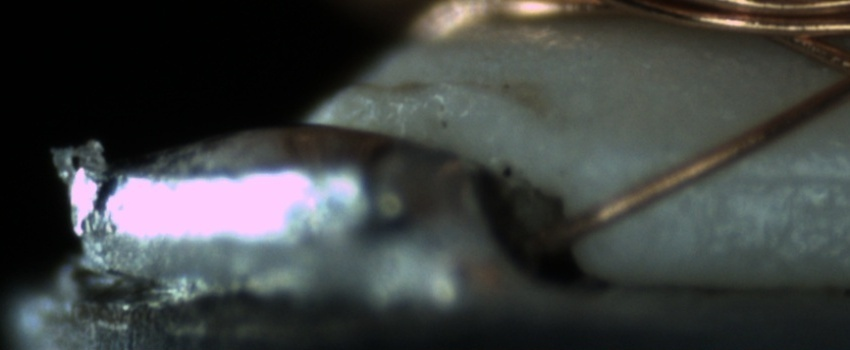DL: (693, 144, 847, 212)
